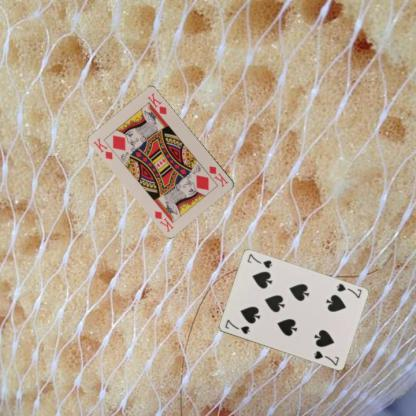7s: (333, 281, 363, 300), (222, 317, 251, 335)
Kd: (206, 163, 230, 188), (91, 135, 114, 161)
